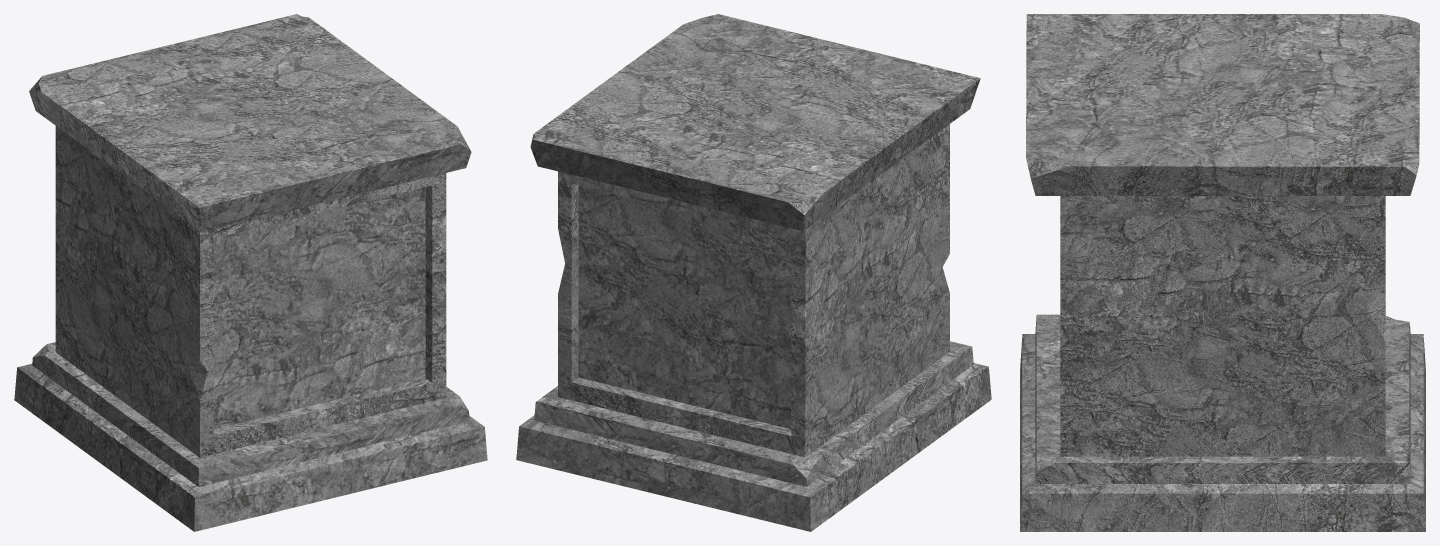
Rendered from materials_3_pedestal_4.fbx.
3 views of the same model, side by side, from view 1: azimuth 30°, elevation 25°; view 2: azimuth 150°, elevation 25°; view 3: azimuth 270°, elevation 25° (orthographic). The views are drawn at different scales.
Visible parts, largest first — view 1: materials_3_pedestal_4; view 2: materials_3_pedestal_4; view 3: materials_3_pedestal_4.
Part boxes in pixels (left/top/right/bottom): materials_3_pedestal_4: left=14, top=14, right=487, bottom=531; materials_3_pedestal_4: left=516, top=14, right=991, bottom=531; materials_3_pedestal_4: left=1020, top=14, right=1425, bottom=531.
Size of the model in its own units: 116 by 121 by 123.
